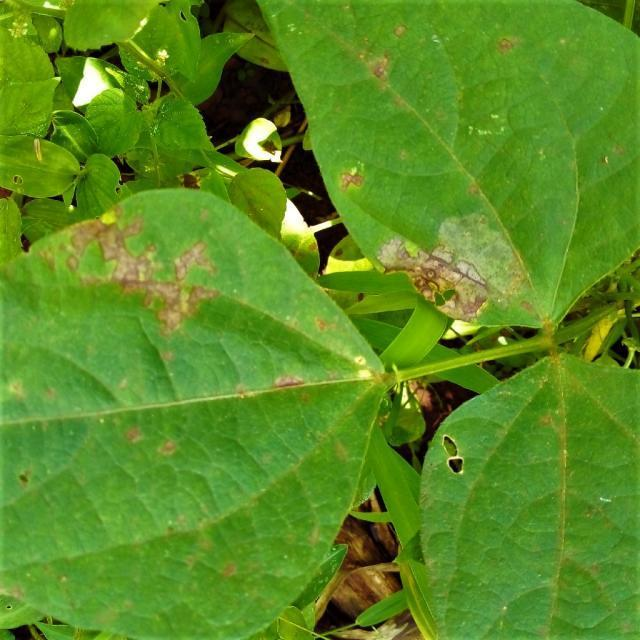hawar: (40, 210, 250, 376), (366, 225, 534, 340), (117, 410, 220, 477), (429, 412, 492, 502), (334, 153, 399, 211), (477, 13, 530, 82), (351, 30, 404, 92), (11, 459, 69, 512)
